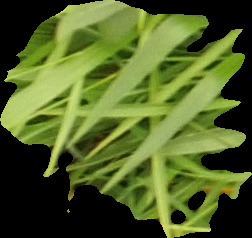grass: (1, 1, 250, 236)
